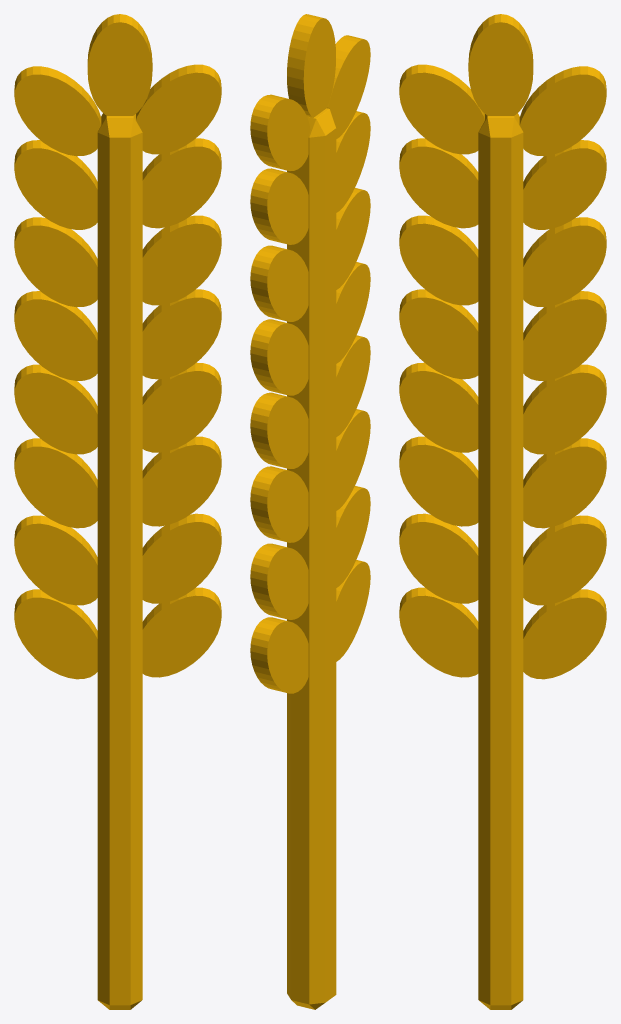
File: demeter.fbx
3 renders of one model, left to right at view 1: azimuth 90°, elevation 25°; view 2: azimuth 150°, elevation 25°; view 3: azimuth 270°, elevation 25°, orthographic.
Visible parts, largest first — view 1: Cube, Cylinder.014, Cylinder.008, Cylinder.012, Cylinder.006, Cylinder.016, Cylinder.009, Cylinder.011, Cylinder.013, Cylinder.015, Cylinder.010, Cylinder.004 (+6 smaller); view 2: Cube, Cylinder.016, Cylinder.014, Cylinder.009, Cylinder.013, Cylinder.011, Cylinder.015, Cylinder.010, Cylinder.012, Cylinder.008, Cylinder.006, Cylinder (+6 smaller); view 3: Cube, Cylinder.014, Cylinder.008, Cylinder.012, Cylinder.006, Cylinder.016, Cylinder.009, Cylinder.011, Cylinder.013, Cylinder.015, Cylinder.010, Cylinder.004 (+6 smaller).
Part boxes in pixels (x1,y1,x2,y2): Cube: (97,113,142,1009); Cylinder.014: (14,66,101,156); Cylinder.008: (14,515,97,605); Cylinder.012: (14,217,97,307); Cylinder.006: (136,64,221,154); Cylinder.016: (87,14,152,115); Cylinder.009: (14,589,97,679); Cylinder.011: (14,438,97,528); Cylinder.013: (14,291,97,380); Cylinder.015: (14,140,97,229); Cylinder.010: (14,364,97,454); Cylinder.004: (142,215,221,305); Cube: (287,108,336,1009); Cylinder.016: (287,14,335,117); Cylinder.014: (250,94,310,170); Cylinder.009: (250,617,308,693); Cylinder.013: (250,319,308,395); Cylinder.011: (250,466,308,542); Cylinder.015: (250,168,308,244); Cylinder.010: (250,392,308,468); Cylinder.012: (250,245,308,321); Cylinder.008: (250,543,308,619); Cylinder.006: (327,35,370,138); Cylinder: (336,486,370,587); Cube: (478,113,523,1009); Cylinder.014: (519,66,606,156); Cylinder.008: (523,515,606,605); Cylinder.012: (523,217,606,307); Cylinder.006: (399,64,484,154); Cylinder.016: (468,14,533,115); Cylinder.009: (523,589,606,679); Cylinder.011: (523,438,606,528); Cylinder.013: (523,291,606,380); Cylinder.015: (523,140,606,229); Cylinder.010: (523,364,606,454); Cylinder.004: (399,215,478,305).
Bounding box in the file's own units: 8.28 × 201 × 38.27.
